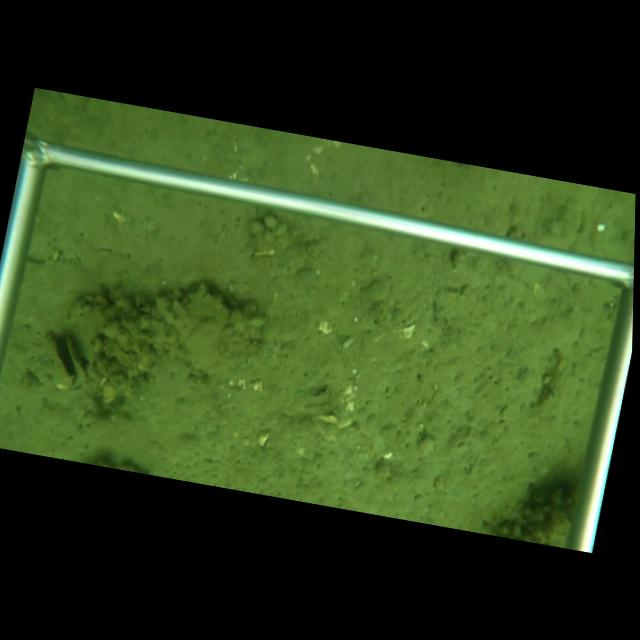Oyster-Open: (44, 326, 89, 394)
